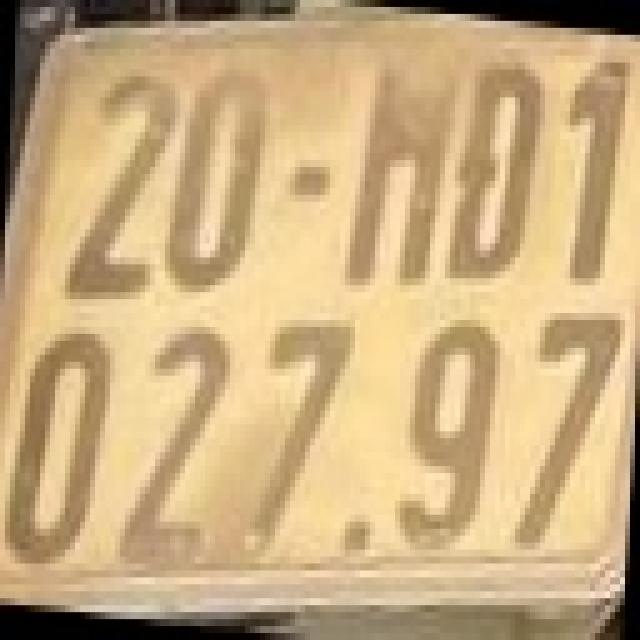0: (0, 327, 115, 570), (165, 63, 270, 299)
1: (555, 49, 635, 285)
2: (60, 63, 170, 306), (125, 320, 230, 563)
7: (515, 306, 625, 557), (250, 306, 355, 557)
9: (395, 313, 500, 557)
D: (450, 56, 545, 285)
